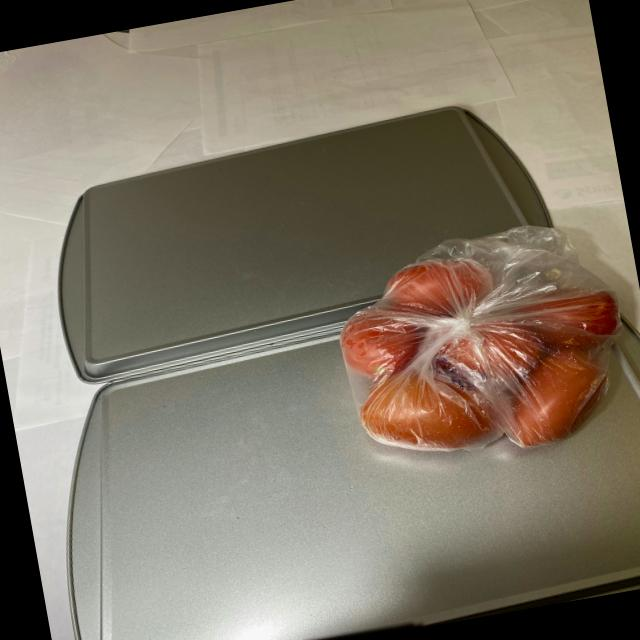tomato: (322, 229, 640, 486)
